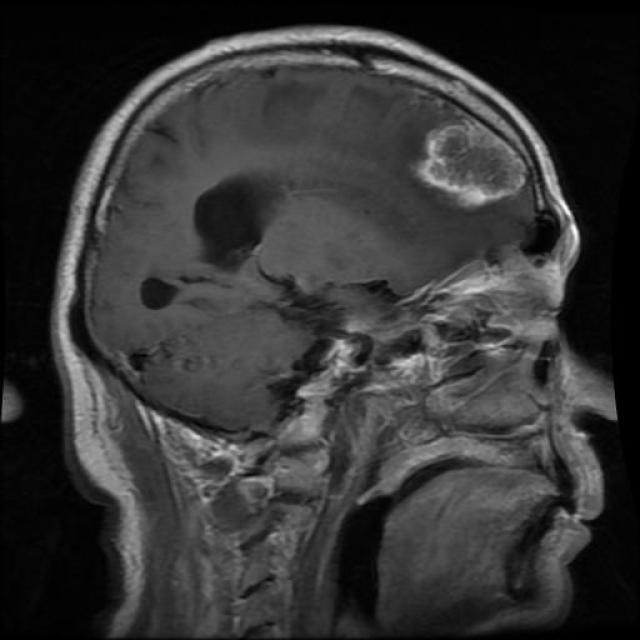meningioma: (418, 120, 528, 206)
